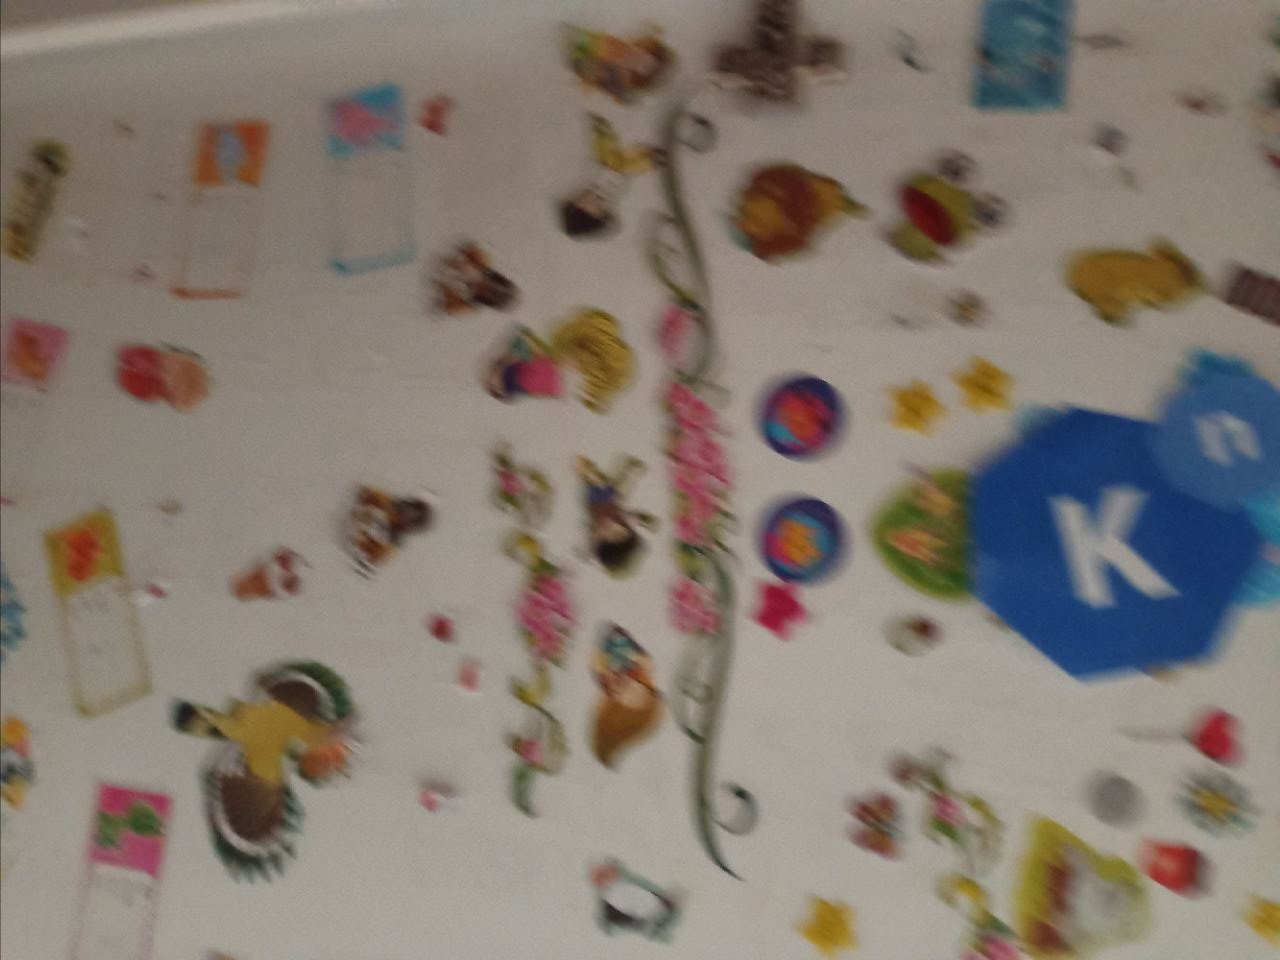knative: (974, 358, 1278, 688)
